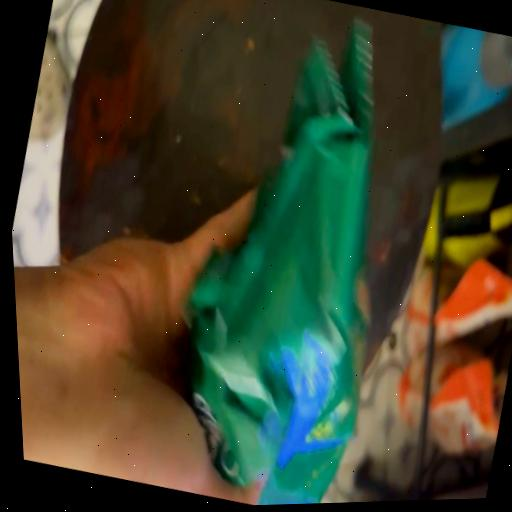cafe_xay: (186, 21, 372, 505)
